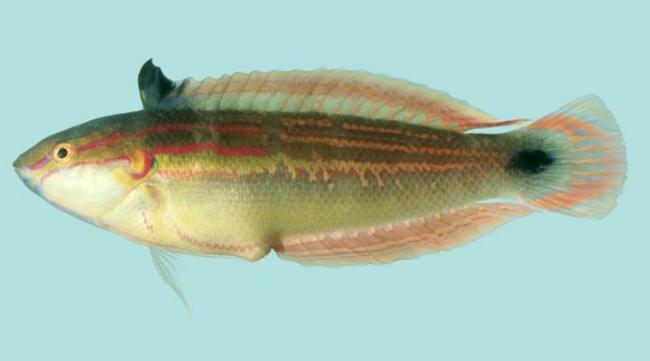fish: (13, 59, 626, 313)
